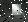person: (14, 6, 25, 19)
